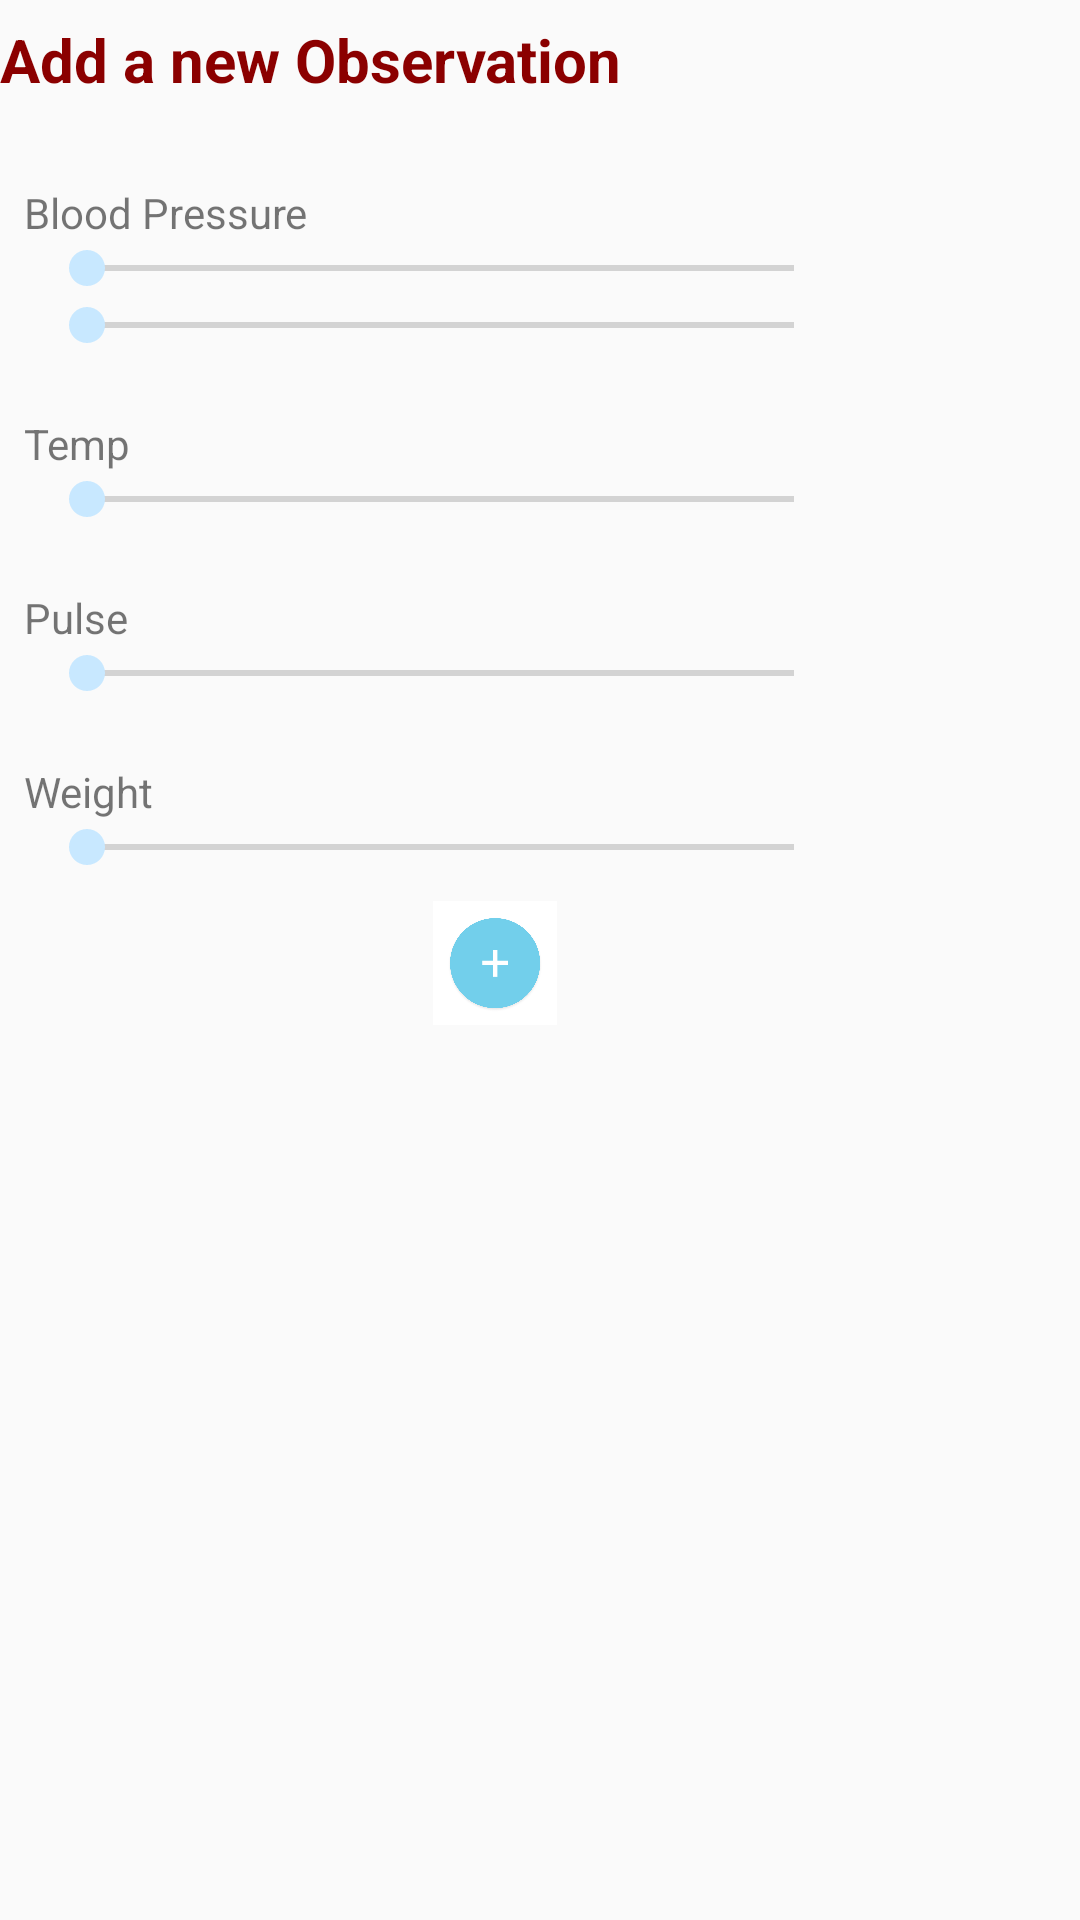

Screen size 1080 × 1920. Icon name, then its box in pixels as bbox(x1, y1, x2, y2):
add: bbox(450, 918, 540, 1008)
